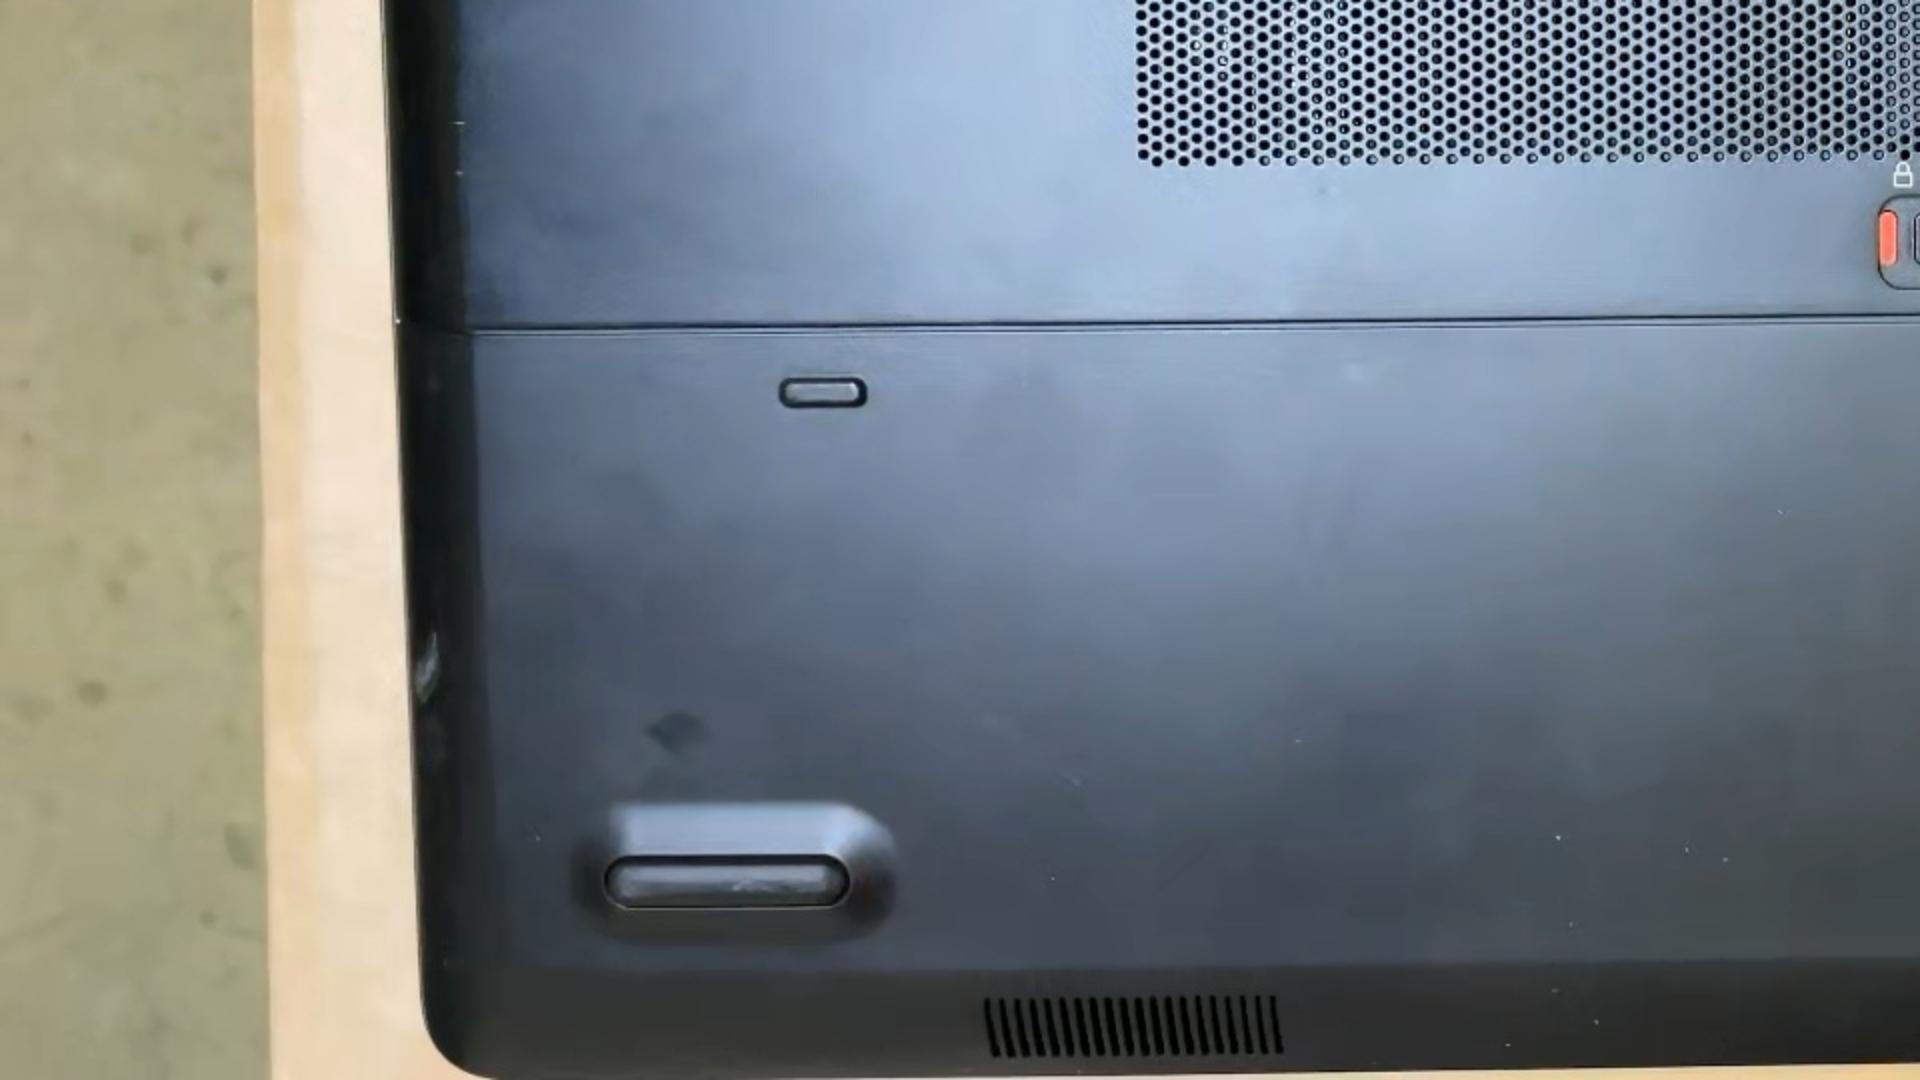chip: (414, 625, 446, 704), (1552, 833, 1564, 844)
